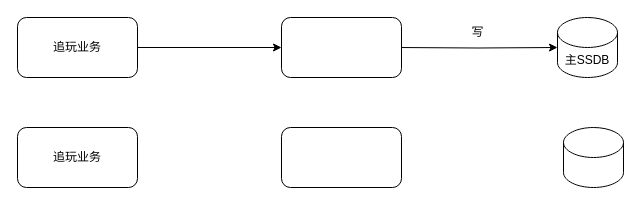
Some shapes in this 641 by 205 pixel diagram are drawn without their labels. Each missing label, with the centre of its shape:
从SSDB: the point at 593,157
追玩关注服务: the point at 341,47
